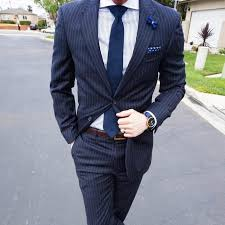F_belt: (74, 123, 147, 143)
